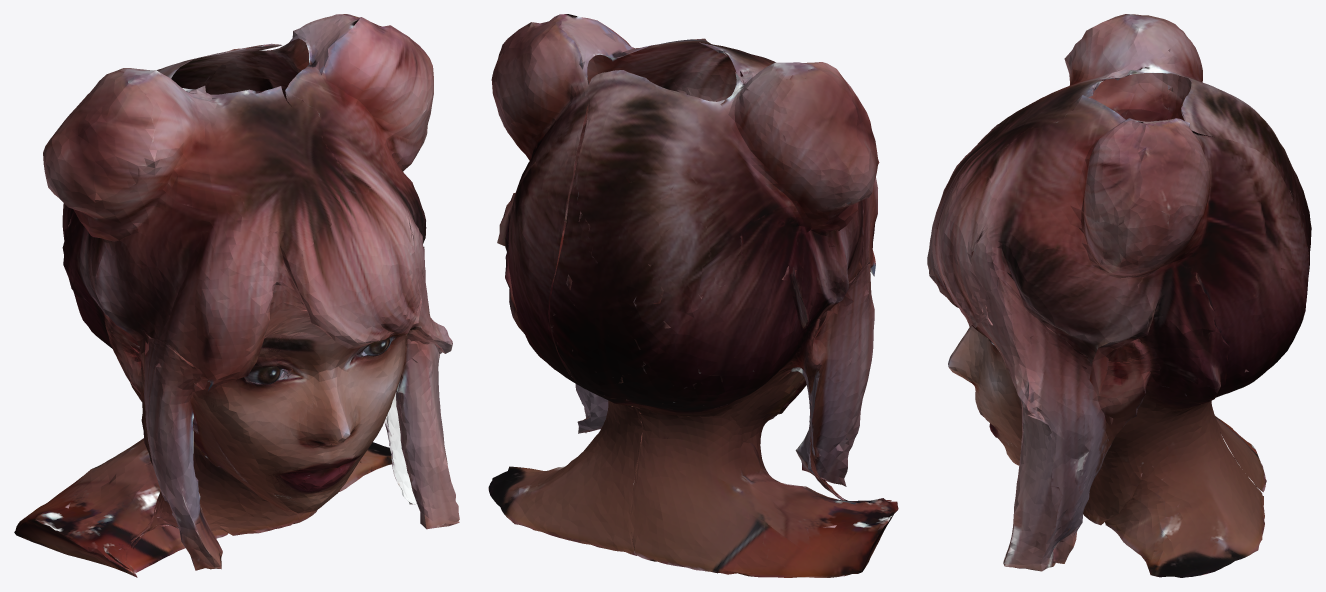
3 views of the same model, side by side, from view 1: azimuth 30°, elevation 25°; view 2: azimuth 150°, elevation 25°; view 3: azimuth 270°, elevation 25° (orthographic). The views are drawn at different scales.
Size of the model in its own units: 1.59 by 1.8 by 1.45.
1 material, 1 textured.
